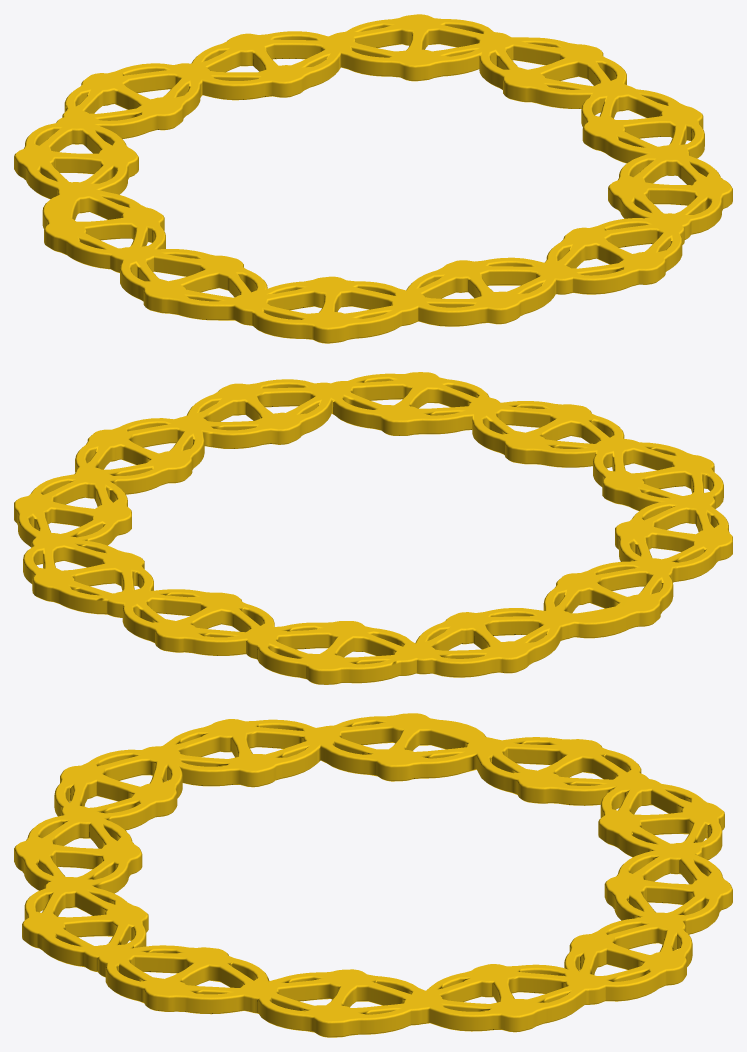
The model's file is Resistance_Symbol_V001_Rotations.glb.
The picture shows the model from 3 angles, top to bottom: view 1: azimuth 30°, elevation 25°; view 2: azimuth 150°, elevation 25°; view 3: azimuth 270°, elevation 25°; orthographic projection. The views are drawn at different scales.
Parts seen in each view (by area): view 1: Resistance_symbol_v001:polySurface1; view 2: Resistance_symbol_v001:polySurface1; view 3: Resistance_symbol_v001:polySurface1.
Boxes of the visible parts, <box> form: Resistance_symbol_v001:polySurface1: <box>14,14,732,343</box>; Resistance_symbol_v001:polySurface1: <box>14,372,732,684</box>; Resistance_symbol_v001:polySurface1: <box>14,713,732,1037</box>.
Size of the model in its own units: 18.61 by 0.4699 by 18.27.
